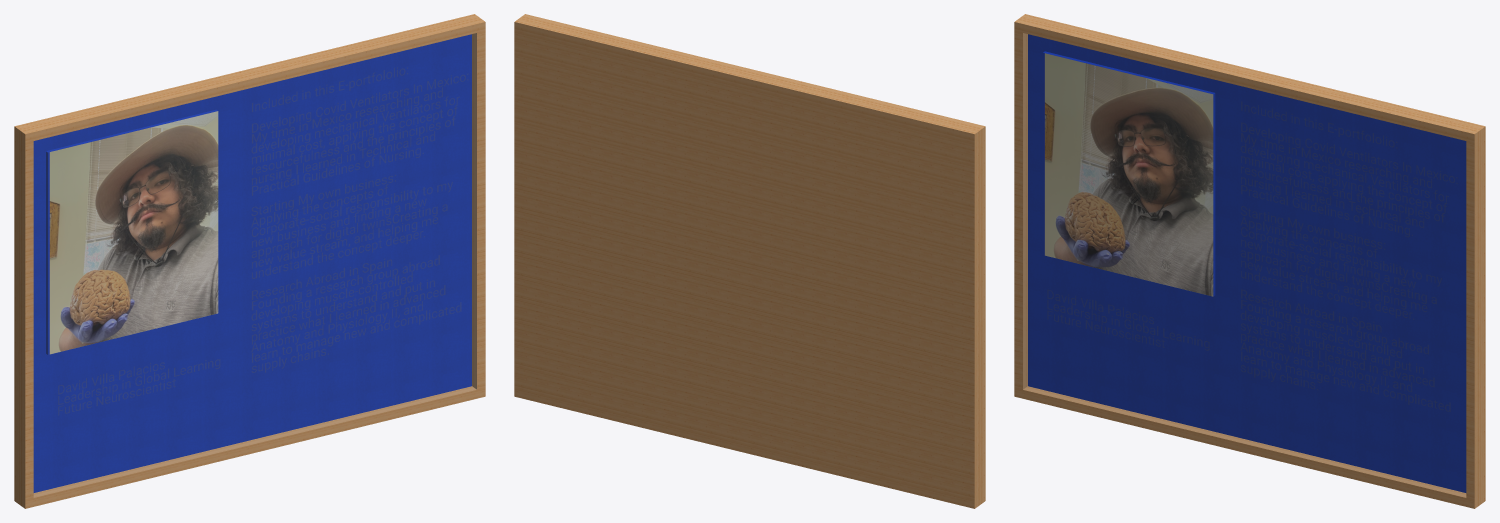
File: corkBoardLarge.glb
3 views of the same model, side by side, from view 1: azimuth 30°, elevation 25°; view 2: azimuth 150°, elevation 25°; view 3: azimuth 330°, elevation 25° (orthographic).
Size of what is drawn, in the model's own units: 0.27 by 0.21 by 0.011.
4 materials, 4 textured.
